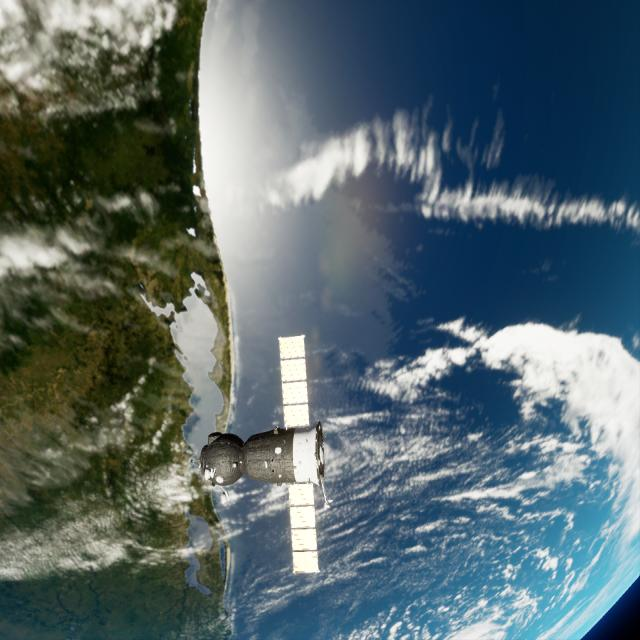Satellites revolving around earth: (196, 330, 332, 578)
